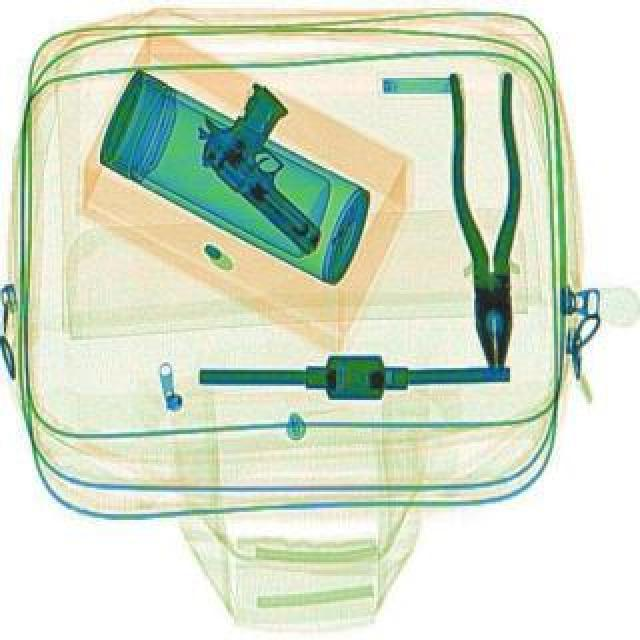gun: (176, 80, 378, 264)
wrench: (446, 72, 532, 380)
